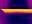Hotspot: (1, 9, 31, 13)
